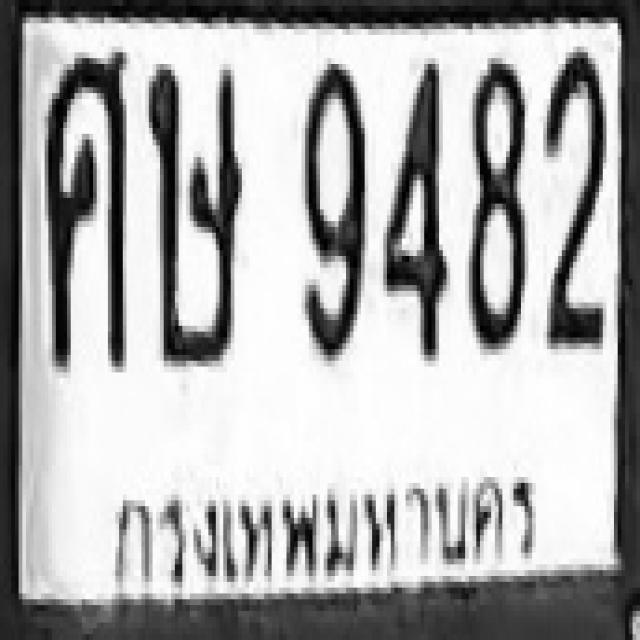0: (301, 58, 365, 355)
2: (541, 50, 605, 346)
4: (379, 58, 446, 355)
47SorSala: (45, 46, 126, 366)
48SorRueSi: (145, 61, 242, 364)
8: (465, 55, 525, 346)
9: (301, 58, 365, 355)
Bangkok: (101, 451, 545, 598)
